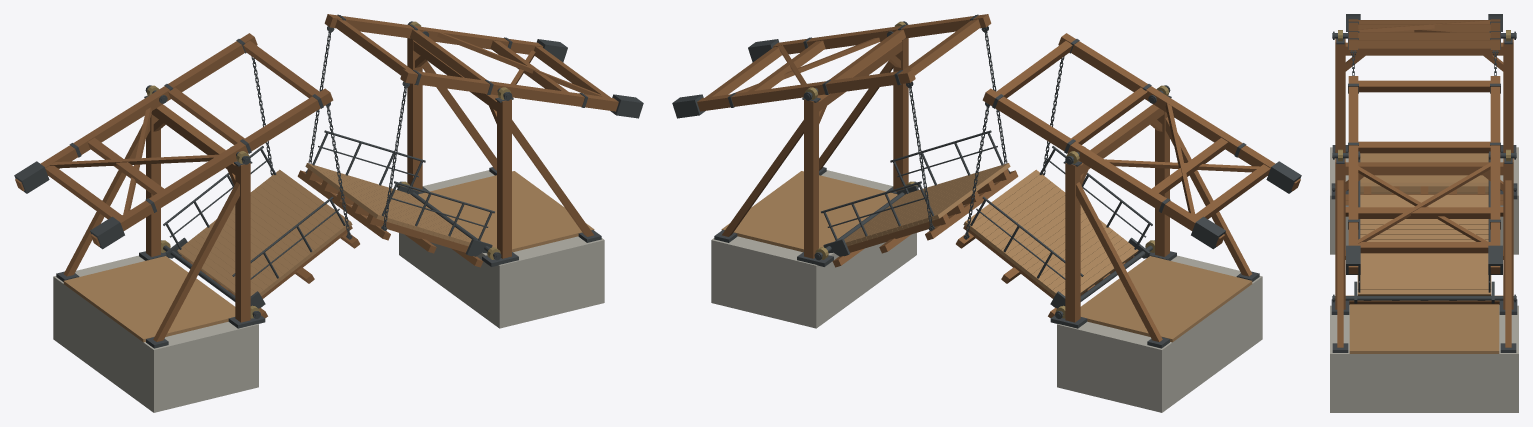
The picture shows the model from 3 angles, left to right: view 1: azimuth 30°, elevation 25°; view 2: azimuth 150°, elevation 25°; view 3: azimuth 270°, elevation 25°; orthographic projection. The views are drawn at different scales.
Parts seen in each view (by area): view 1: West_Abutment_export, East_Abutment_export, West_Landing_export, East_Landing_export, West_Near_BalanceBeam_export, West_Far_BalanceBeam_export, East_Far_BalanceBeam_export, West_Near_Portal_export, East_Far_Portal_export, East_Near_BalanceBeam_export, East_Near_Portal_export, West_Near_BackBrace_export (+28 smaller); view 2: West_Abutment_export, East_Abutment_export, West_Landing_export, East_Landing_export, West_Far_BalanceBeam_export, West_Near_BalanceBeam_export, East_Near_BalanceBeam_export, West_Far_Portal_export, East_Near_Portal_export, East_Far_BalanceBeam_export, East_Far_Portal_export, West_Far_BackBrace_export (+28 smaller); view 3: East_Abutment_export, East_Landing_export, West_Landing_export, East_Near_BalanceBeam_export, East_Far_BalanceBeam_export, East_PortalCrossbar_export, East_UpperCross0.35_export, East_UpperCross3.0_export, East_UpperCross-4.0_export, East_UpperCross-2.5_export, West_Abutment_export, West_PortalCrossbar_export (+37 smaller).
Part boxes in pixels (left/top/right/bottom): West_Abutment_export: left=53, top=255, right=258, bottom=412; East_Abutment_export: left=399, top=170, right=604, bottom=328; West_Landing_export: left=63, top=256, right=235, bottom=342; East_Landing_export: left=418, top=171, right=594, bottom=252; West_Near_BalanceBeam_export: left=91, top=88, right=333, bottom=246; West_Far_BalanceBeam_export: left=15, top=33, right=257, bottom=191; East_Far_BalanceBeam_export: left=400, top=69, right=618, bottom=111; West_Near_Portal_export: left=235, top=161, right=250, bottom=322; East_Far_Portal_export: left=497, top=97, right=511, bottom=258; East_Near_BalanceBeam_export: left=324, top=14, right=542, bottom=54; East_Near_Portal_export: left=407, top=38, right=422, bottom=191; West_Near_BackBrace_export: left=153, top=182, right=239, bottom=341; West_Abutment_export: left=1057, top=255, right=1262, bottom=412; East_Abutment_export: left=711, top=170, right=916, bottom=328; West_Landing_export: left=1080, top=256, right=1252, bottom=342; East_Landing_export: left=721, top=171, right=897, bottom=252; West_Far_BalanceBeam_export: left=982, top=88, right=1224, bottom=246; West_Near_BalanceBeam_export: left=1058, top=33, right=1300, bottom=191; East_Near_BalanceBeam_export: left=697, top=69, right=915, bottom=111; West_Far_Portal_export: left=1065, top=161, right=1080, bottom=322; East_Near_Portal_export: left=804, top=97, right=818, bottom=258; East_Far_BalanceBeam_export: left=773, top=14, right=991, bottom=54; East_Far_Portal_export: left=893, top=38, right=908, bottom=191; West_Far_BackBrace_export: left=1076, top=182, right=1162, bottom=341; East_Abutment_export: left=1330, top=305, right=1518, bottom=412; East_Landing_export: left=1349, top=304, right=1499, bottom=353; West_Landing_export: left=1360, top=153, right=1488, bottom=194; East_Near_BalanceBeam_export: left=1490, top=76, right=1500, bottom=274; East_Far_BalanceBeam_export: left=1348, top=76, right=1358, bottom=274; East_PortalCrossbar_export: left=1345, top=162, right=1503, bottom=175; East_UpperCross0.35_export: left=1358, top=141, right=1490, bottom=153; East_UpperCross3.0_export: left=1358, top=80, right=1490, bottom=92; East_UpperCross-4.0_export: left=1358, top=242, right=1490, bottom=253; East_UpperCross-2.5_export: left=1358, top=207, right=1490, bottom=218; West_Abutment_export: left=1330, top=147, right=1518, bottom=254; West_PortalCrossbar_export: left=1345, top=42, right=1503, bottom=55.
Bounding box in the file's own units: 18.2 × 8.52 × 5.8.
